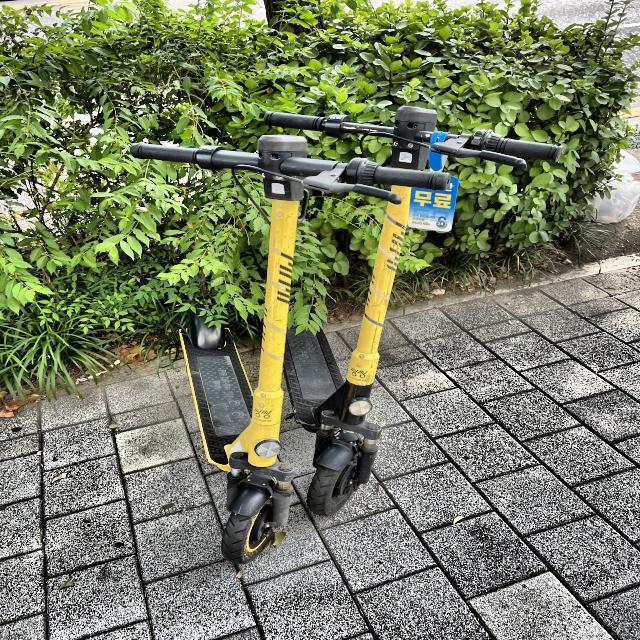bike: (126, 105, 565, 561)
